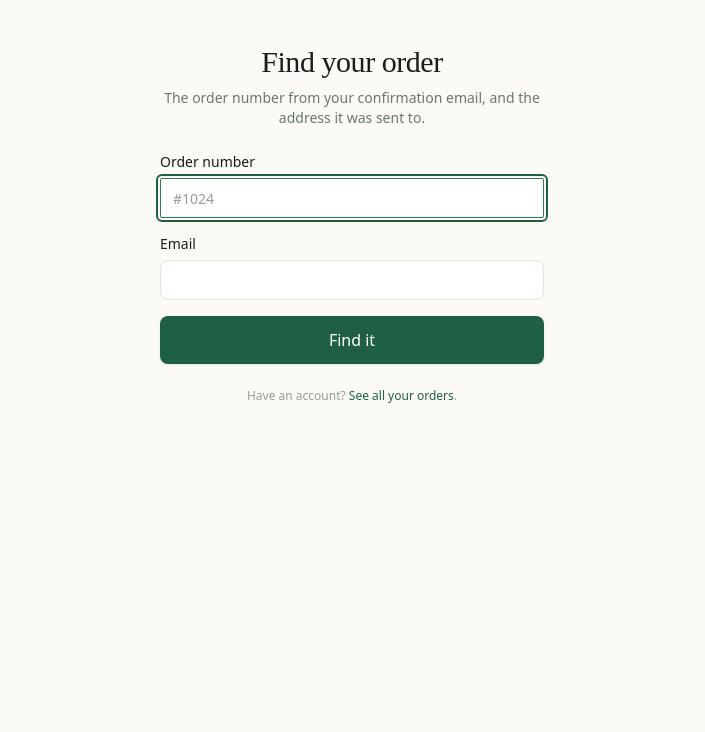
OrderLookupPage › needs the number and the email together
This screenshot has width=705, height=732.
Type "#1001" into the field labelled "Order number". click: (352, 198)
box: 160,178 -> 544,218
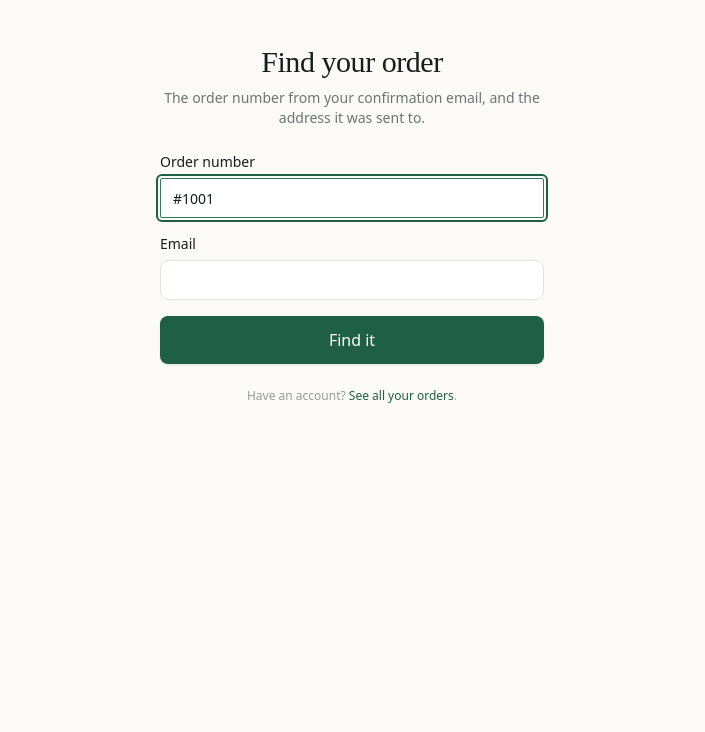
Type "shopper@example.test" into the field labelled "Email". click: (352, 280)
box: 160,260 -> 544,300
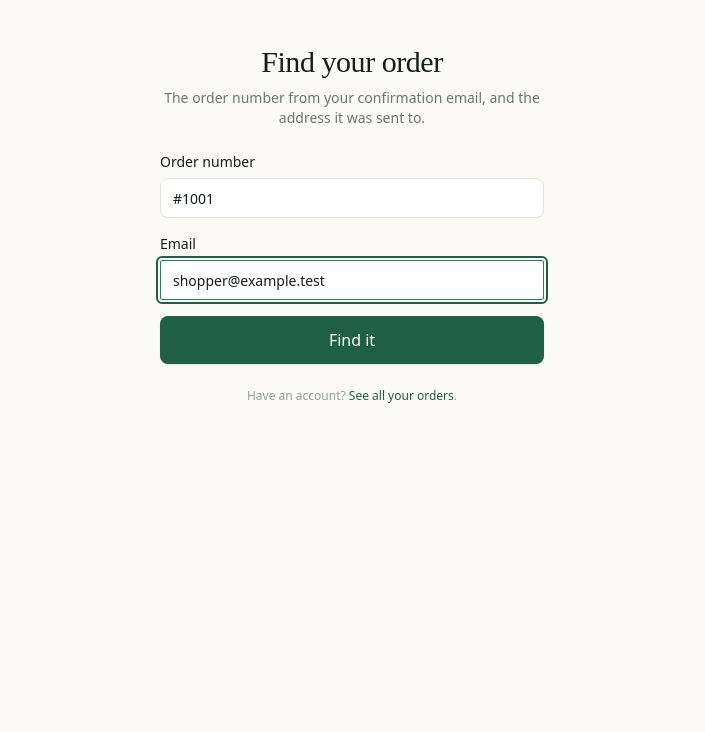
Click the button "Find it". click: (352, 340)
box: 160,316 -> 544,364
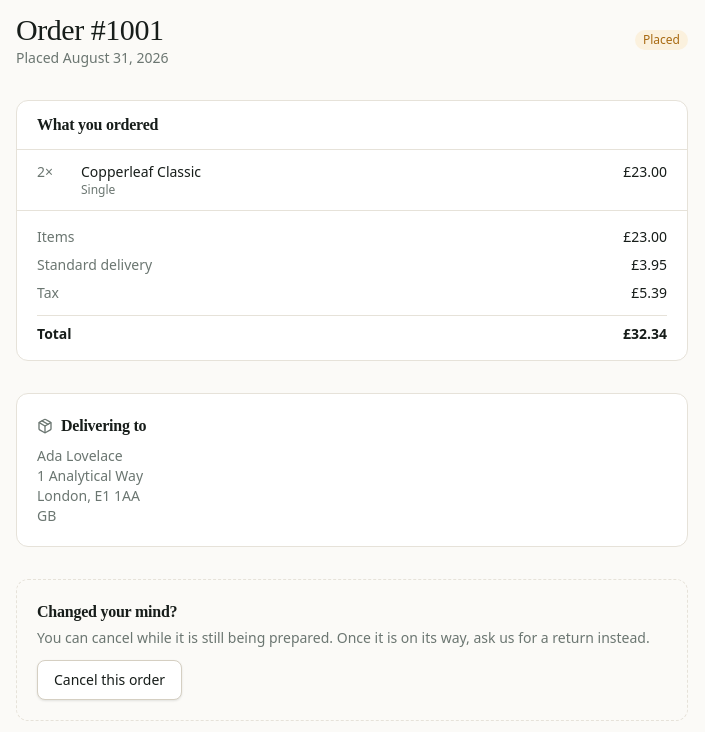
Expected: the heading "Order #1001" is shown, 16,12 -> 168,48
